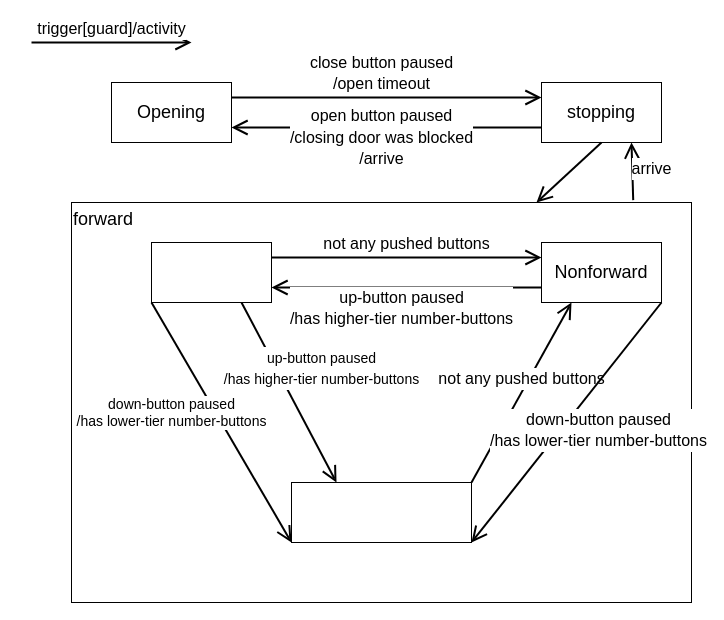
Some shapes in this 724 by 620 pixel diagram are drawn without their labels. Each missing label, with the centre of its shape:
down-forward: the point at 381,512
up-forward: the point at 211,272
